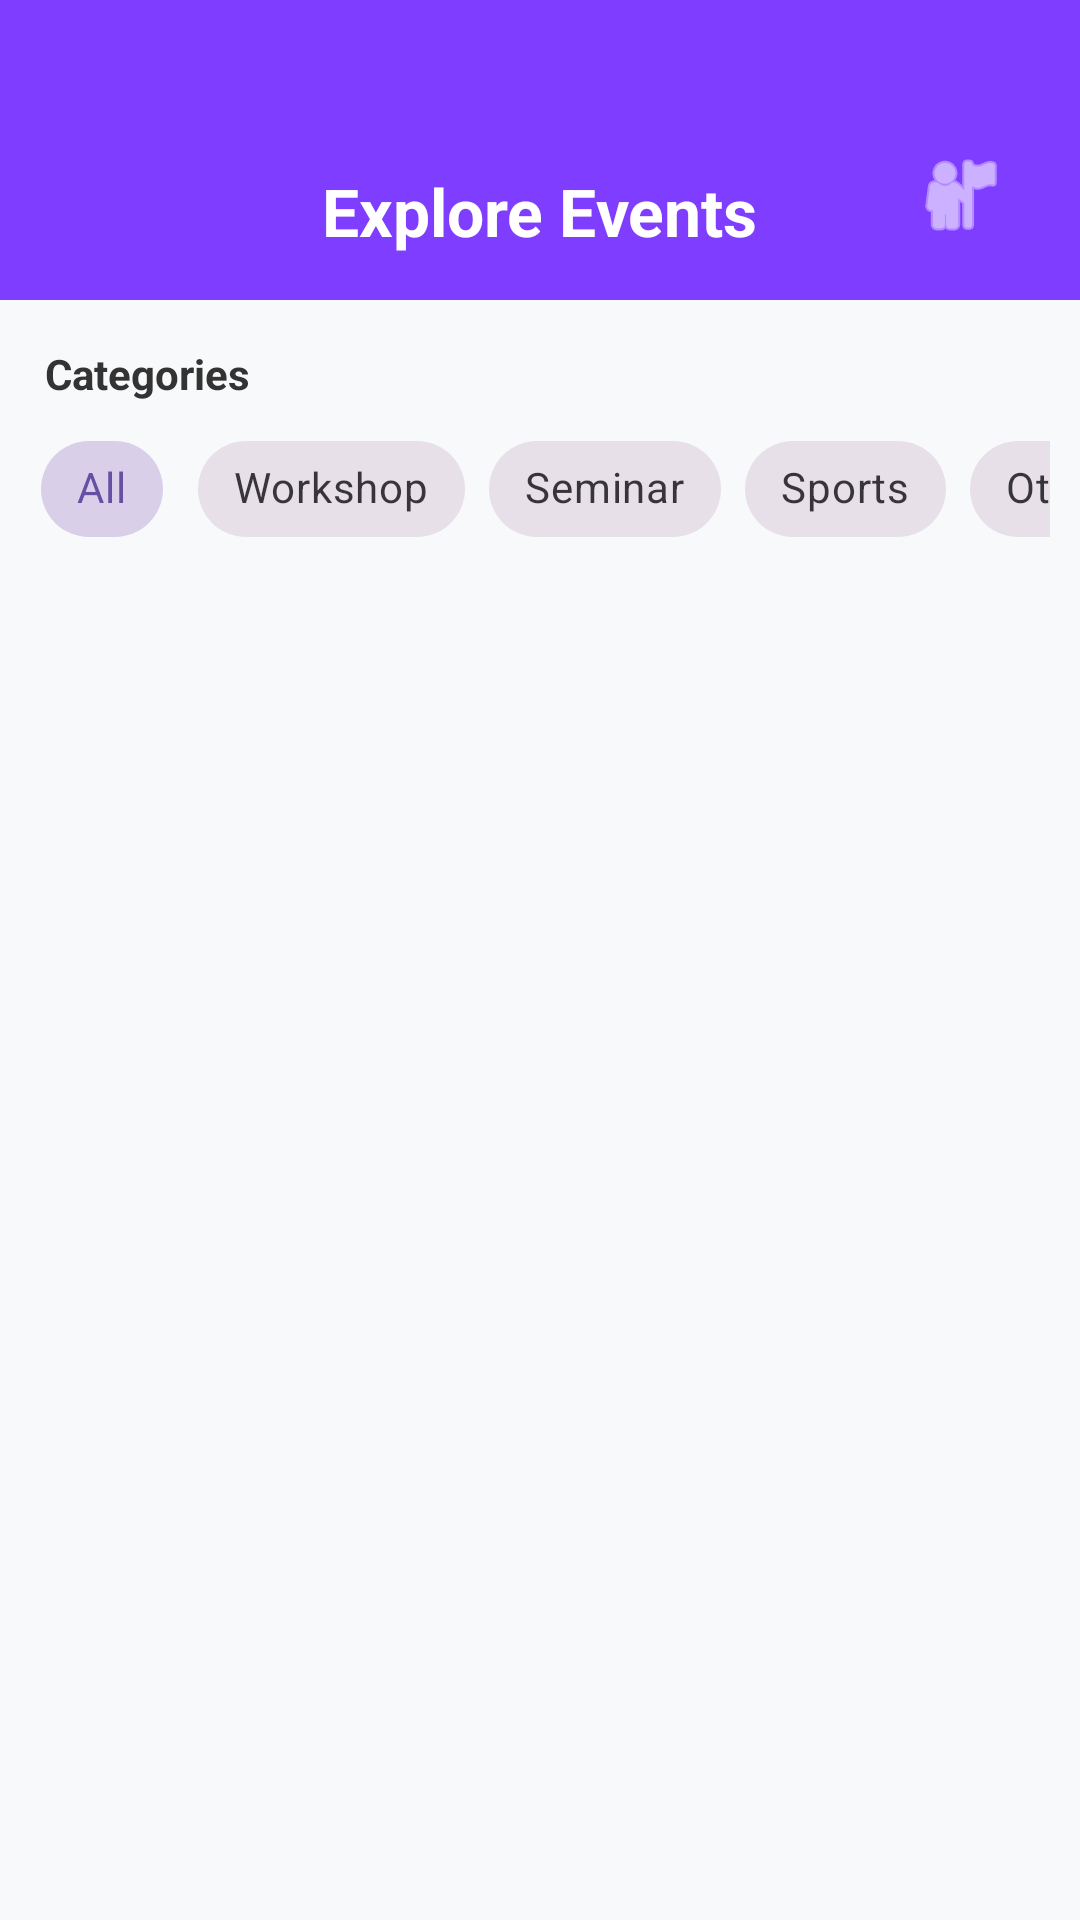

Icon click points for this 1080*1920 phone screenshot, format [x,y]:
myplaces: [961,195]
